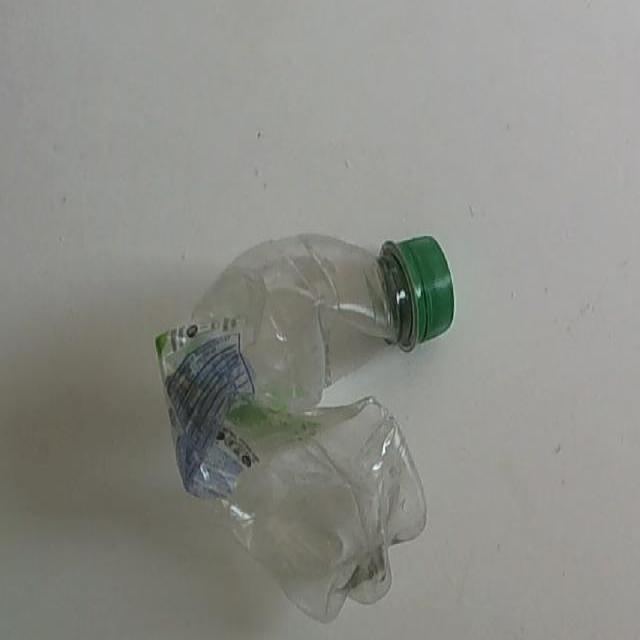defect: (151, 228, 458, 627)
